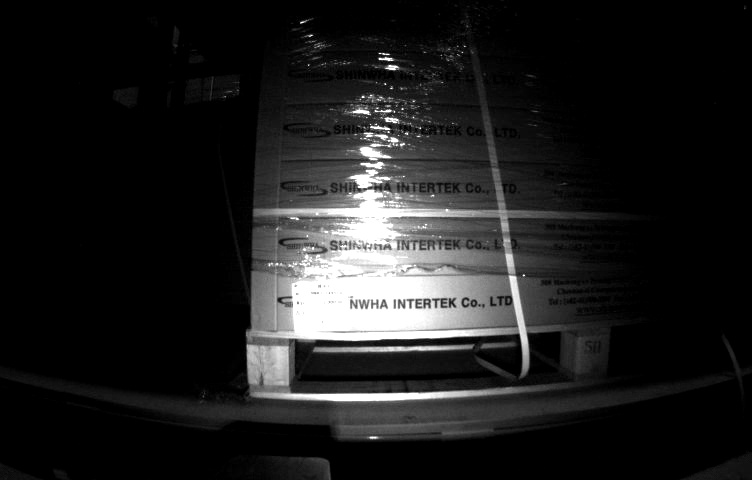True Barcode: (288, 280, 353, 330)
